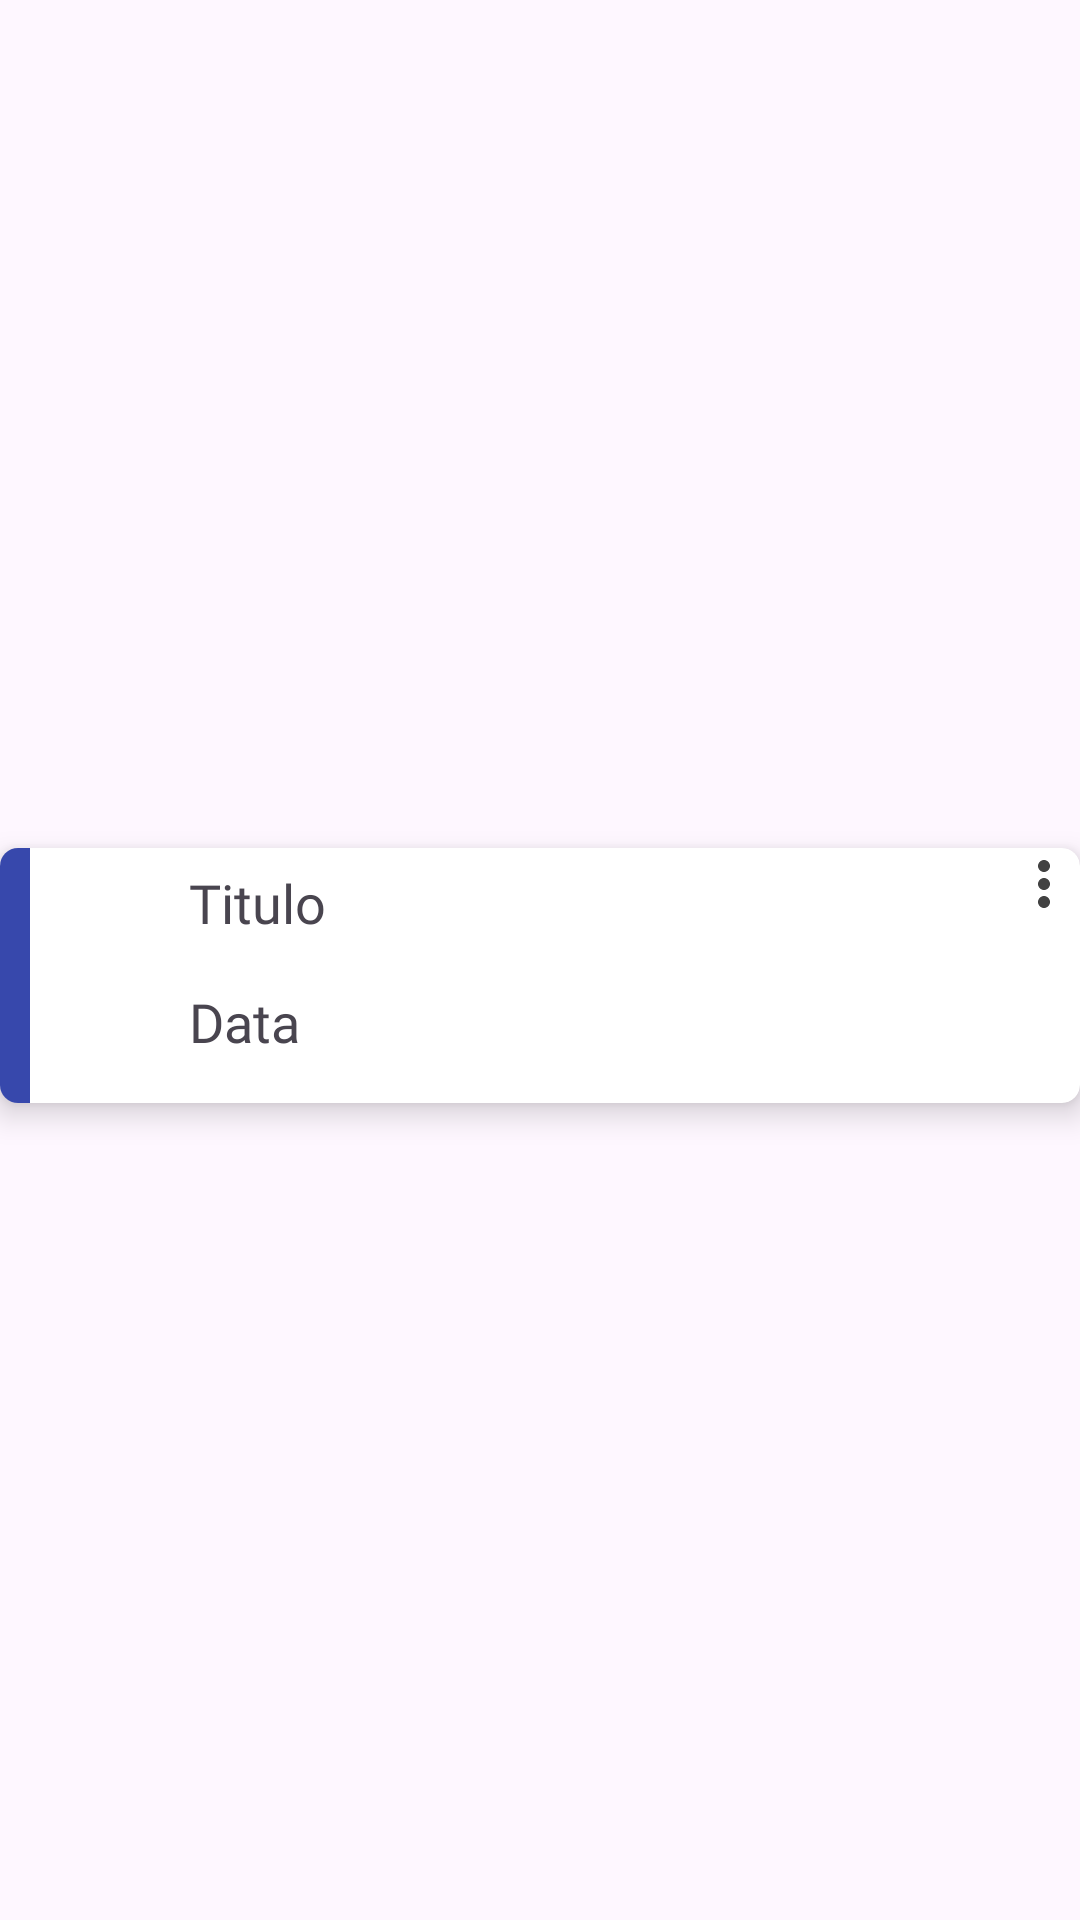

Icon click points for this 1080px x 1920px phone screenshot, format (x,y):
image more: (1059,881)
